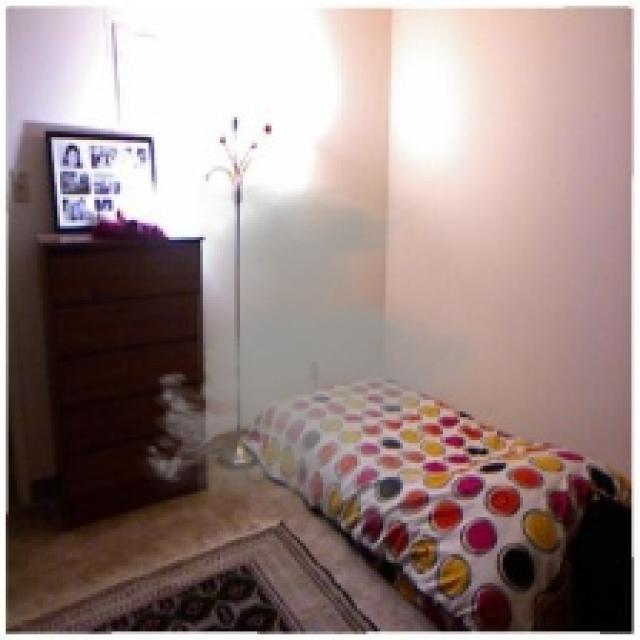Smoke: (134, 182, 492, 528)
